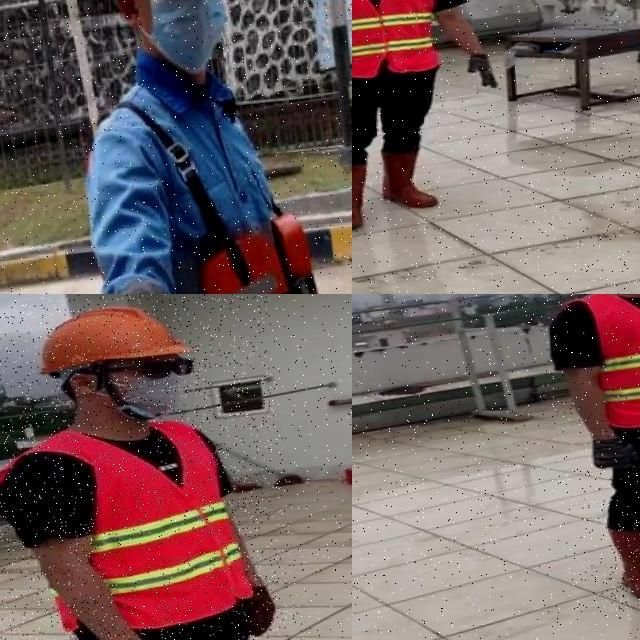boots: (377, 146, 443, 212), (602, 516, 640, 609), (352, 160, 375, 232)
helmet: (26, 296, 190, 375)
vest: (80, 61, 352, 294), (0, 416, 252, 640), (569, 294, 640, 431), (352, 0, 441, 82)
